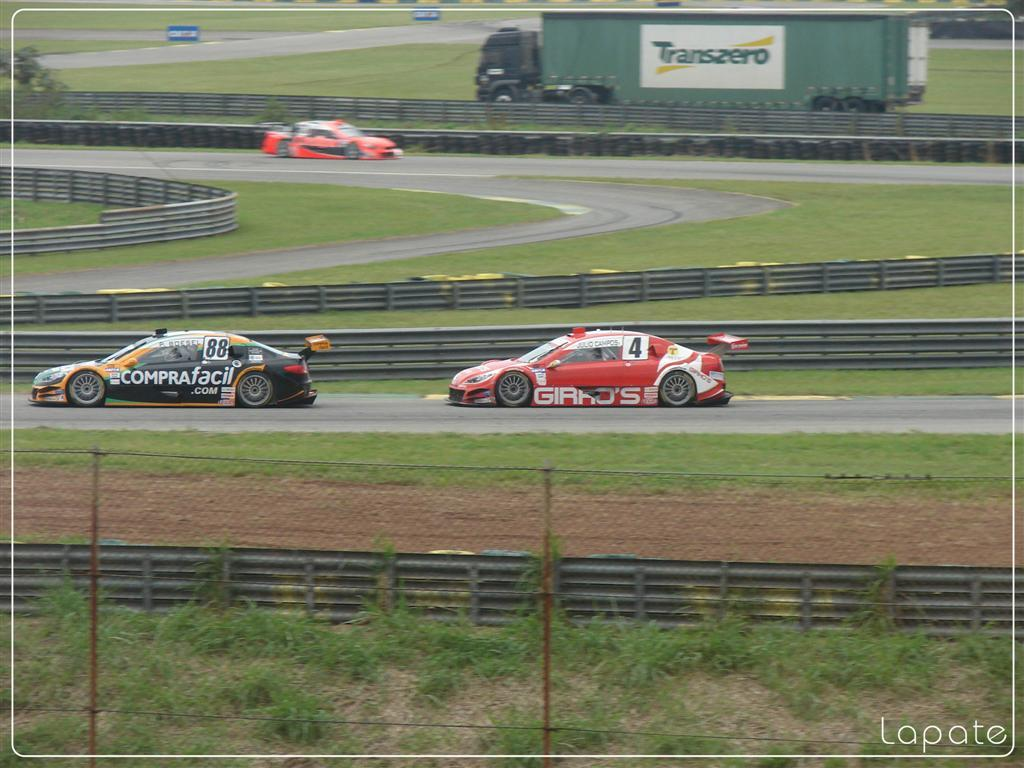Car: (440, 324, 746, 415), (32, 324, 339, 411), (257, 120, 401, 159)
